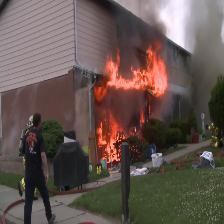fire: (83, 37, 175, 177)
smoke: (113, 0, 224, 58)
